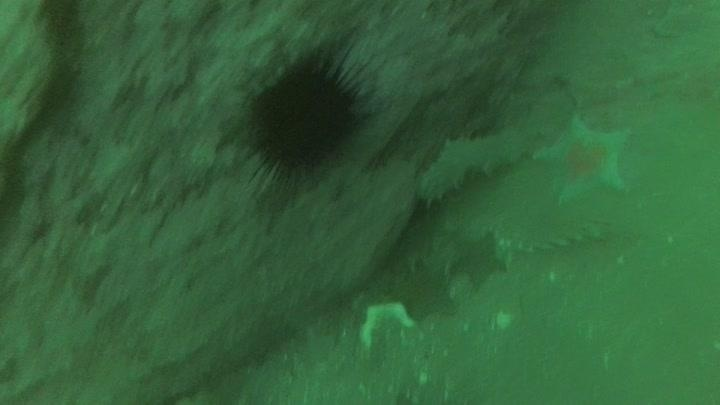echinus: (237, 43, 378, 188)
holothurian: (413, 126, 536, 210), (486, 216, 623, 264)
starfish: (532, 110, 635, 208), (387, 258, 460, 324), (447, 226, 512, 288)
